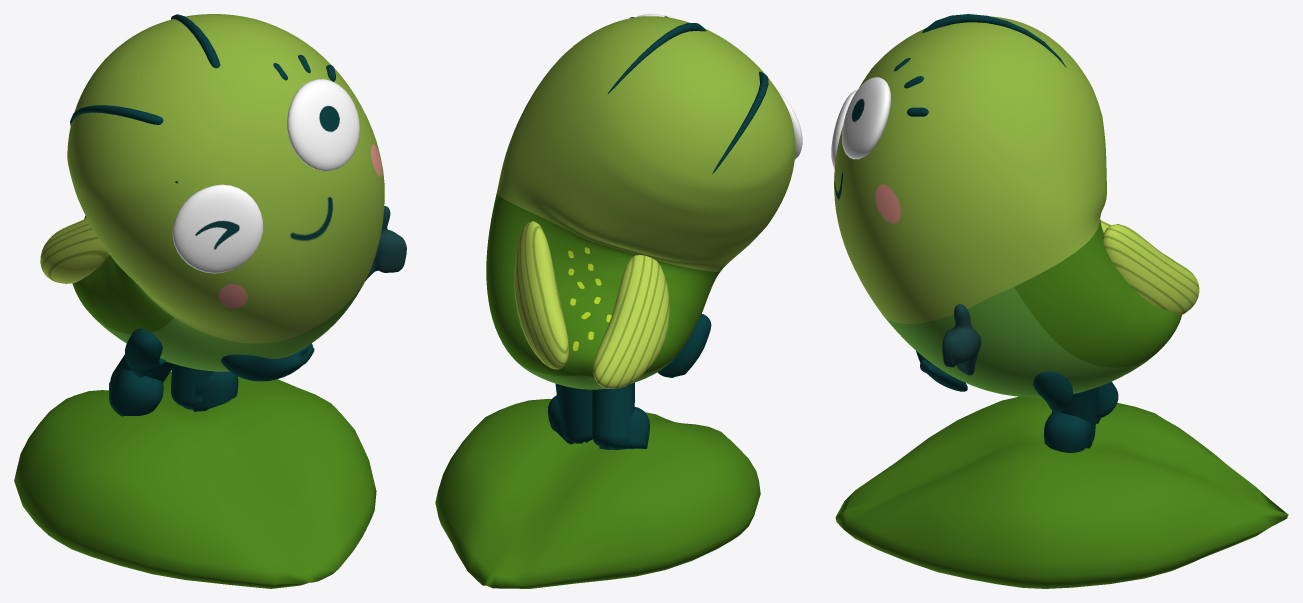
The picture shows the model from 3 angles, left to right: view 1: azimuth 30°, elevation 25°; view 2: azimuth 150°, elevation 25°; view 3: azimuth 270°, elevation 25°; orthographic projection. The views are drawn at different scales.
Parts seen in each view (by area): view 1: 球體.016, 立方體.028, 驚訝.003, 立方體.031, 立方體.029, 貝茲曲線.008, 貝茲曲線.016, 貝茲曲線.019, Mball.009, 立方體.030, 圓柱體.013, 圓柱體.012; view 2: 球體.016, 立方體.028, 立方體.031, 立方體.027, 圓柱體.012, 圓柱體.013, 貝茲曲線.016, 貝茲曲線.019, 立方體.029, 驚訝.003; view 3: 球體.016, 立方體.028, 立方體.027, 驚訝.003, Mball.009, 立方體.030, 貝茲曲線.021, 貝茲曲線.016, 圓柱體.013, 貝茲曲線.008, 圓柱體.012.
Part boxes in pixels (bbox=[...]): 球體.016: bbox=[67, 14, 384, 371]; 立方體.028: bbox=[14, 371, 376, 588]; 驚訝.003: bbox=[172, 79, 359, 273]; 立方體.031: bbox=[40, 218, 109, 283]; 立方體.029: bbox=[109, 369, 163, 416]; 貝茲曲線.008: bbox=[221, 343, 314, 381]; 貝茲曲線.016: bbox=[70, 14, 220, 125]; 貝茲曲線.019: bbox=[125, 328, 165, 377]; Mball.009: bbox=[365, 206, 406, 281]; 立方體.030: bbox=[193, 371, 238, 411]; 圓柱體.013: bbox=[171, 364, 213, 409]; 圓柱體.012: bbox=[110, 354, 174, 385]; 球體.016: bbox=[486, 16, 795, 389]; 立方體.028: bbox=[435, 398, 760, 588]; 立方體.031: bbox=[593, 255, 669, 388]; 立方體.027: bbox=[514, 221, 569, 369]; 圓柱體.012: bbox=[592, 382, 634, 449]; 圓柱體.013: bbox=[555, 383, 592, 443]; 貝茲曲線.016: bbox=[608, 23, 768, 173]; 貝茲曲線.019: bbox=[657, 314, 711, 377]; 立方體.029: bbox=[599, 407, 649, 448]; 驚訝.003: bbox=[637, 14, 802, 159]; 球體.016: bbox=[834, 16, 1181, 397]; 立方體.028: bbox=[835, 396, 1288, 588]; 立方體.027: bbox=[1102, 224, 1199, 314]; 驚訝.003: bbox=[831, 77, 890, 168]; Mball.009: bbox=[942, 304, 981, 375]; 立方體.030: bbox=[1044, 412, 1092, 452]; 貝茲曲線.021: bbox=[1033, 371, 1073, 412]; 貝茲曲線.016: bbox=[922, 14, 1066, 67]; 圓柱體.013: bbox=[1052, 386, 1098, 444]; 貝茲曲線.008: bbox=[916, 351, 967, 391]; 圓柱體.012: bbox=[1096, 381, 1118, 418].
Bounding box in the file's own units: 259 × 430 × 351.
Materials: 2 (1 with a texture image).
